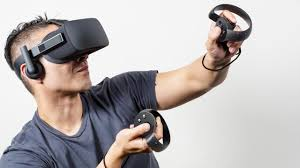oculus: (34, 17, 111, 68)
